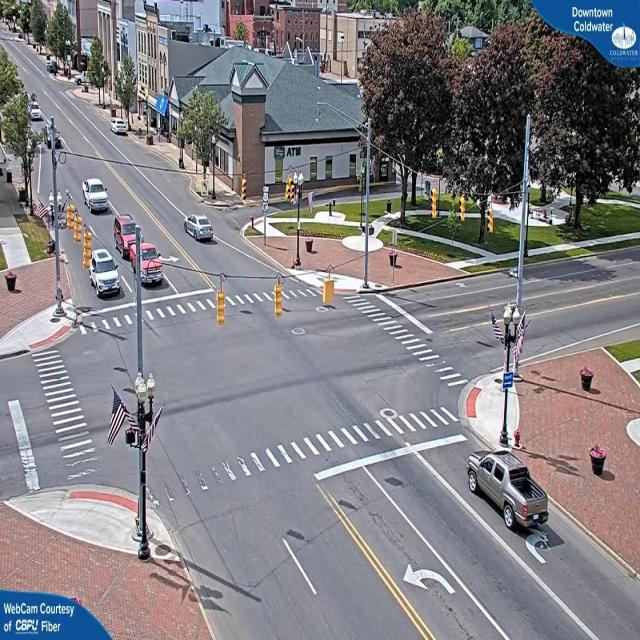car: (464, 451, 550, 534), (88, 252, 123, 296), (114, 210, 140, 255), (83, 179, 110, 213), (184, 215, 214, 243), (112, 119, 128, 136)
